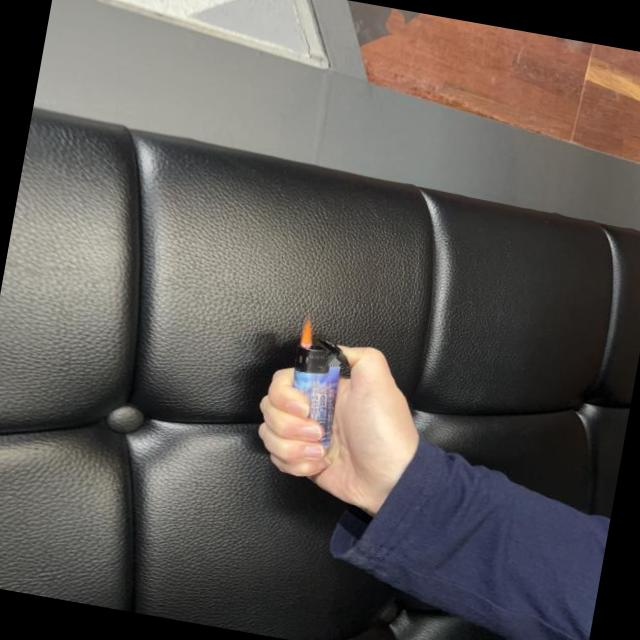Fire: (298, 314, 317, 350)
